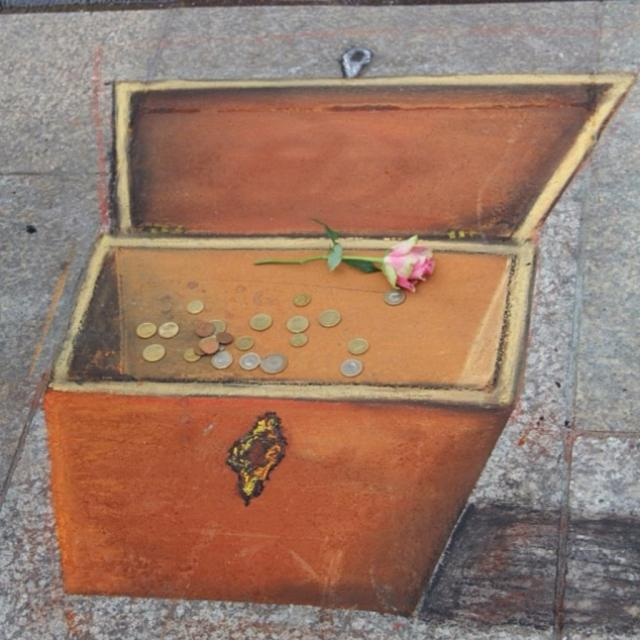Box: (42, 46, 635, 618)
